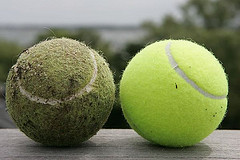tennis ball: (4, 35, 116, 147), (118, 37, 229, 149)
